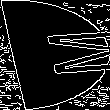M_W: (6, 29, 104, 81)
